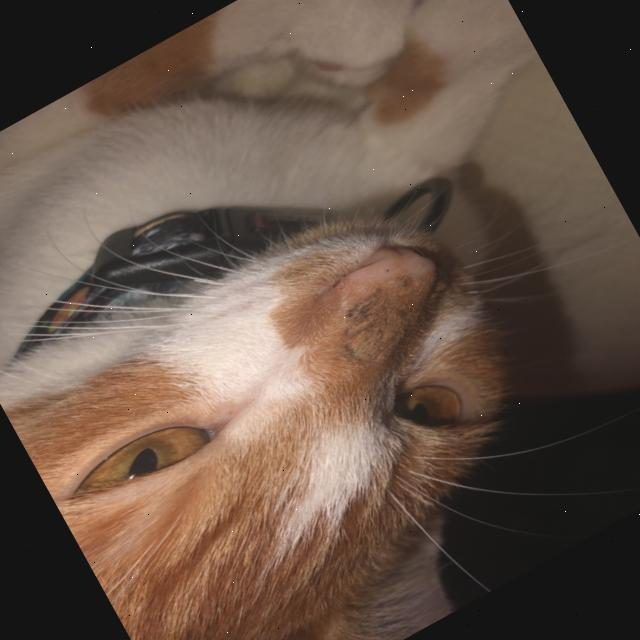cat-scabies: (308, 282, 425, 386)
